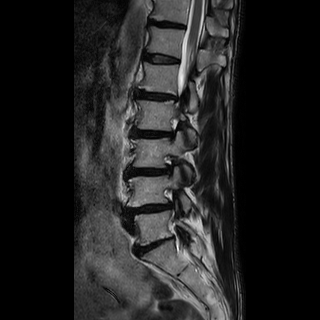LFS2: (157, 146, 185, 186)
